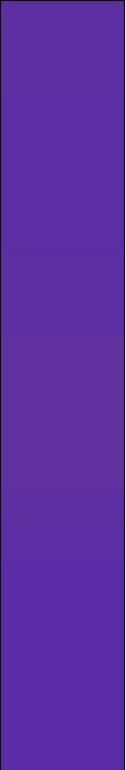safe: (13, 8, 114, 761)
